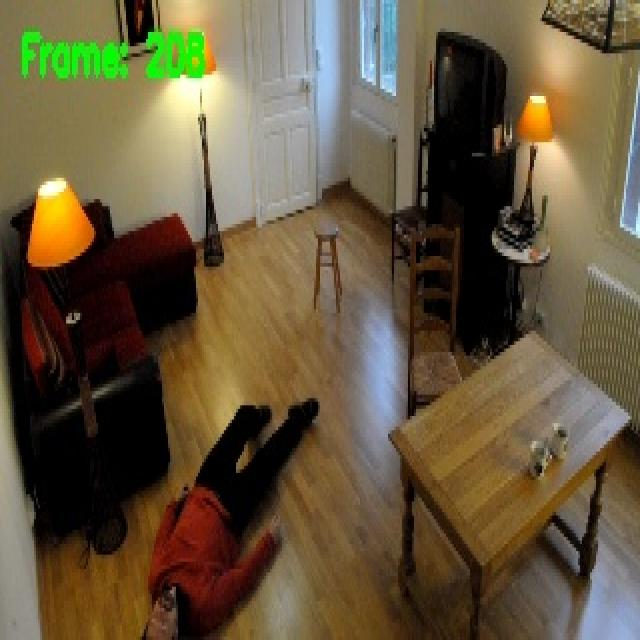Fall-Detected: (134, 392, 323, 640)
